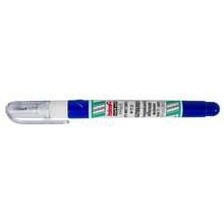correction_fluid: (1, 96, 220, 126)
